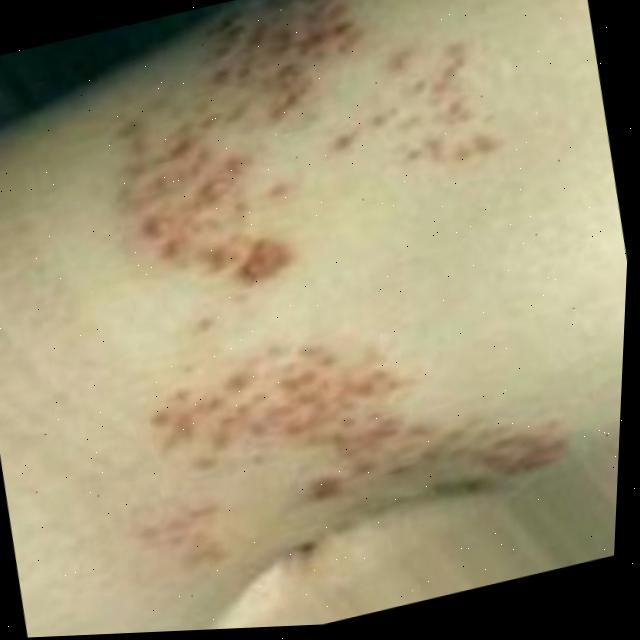Shingles: (109, 274, 570, 587), (84, 0, 535, 312)
